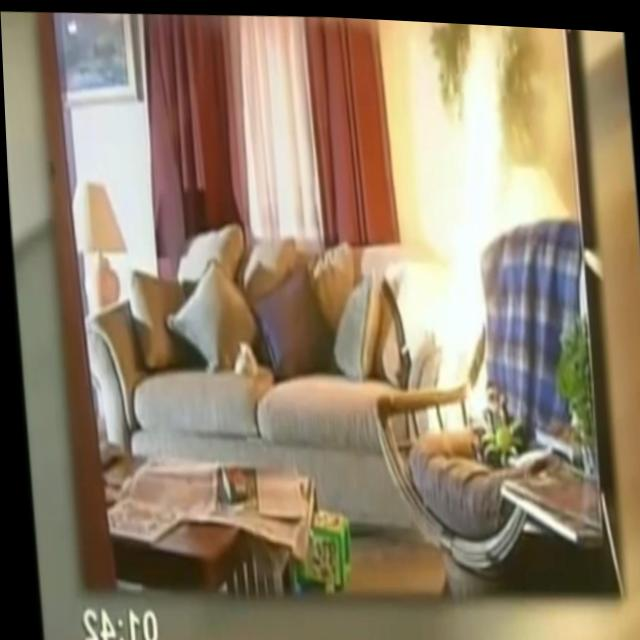fire: (396, 16, 531, 428)
